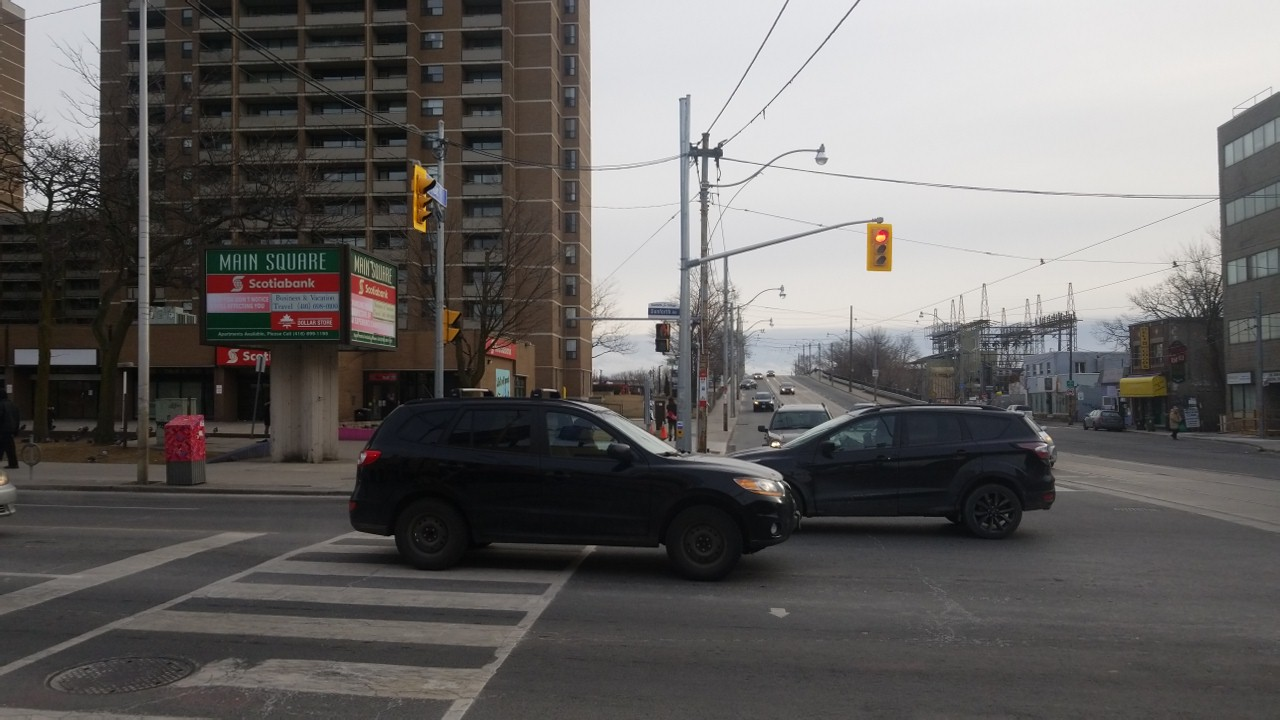light: (654, 322, 670, 351)
